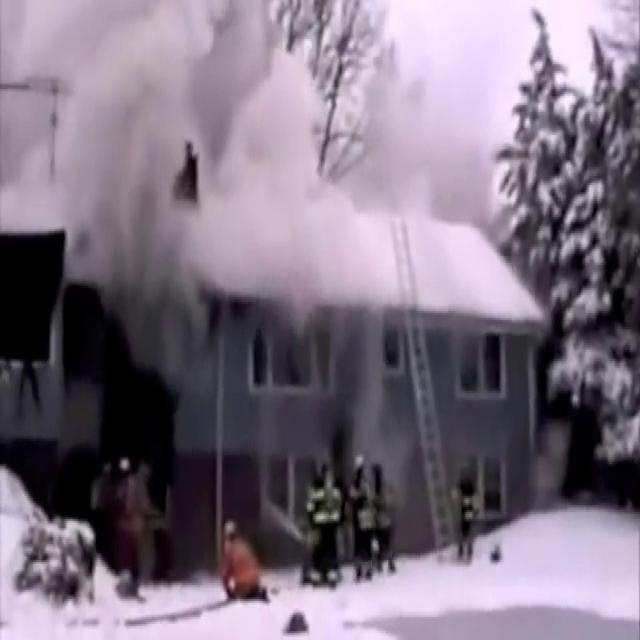Smoke: (0, 0, 553, 316)
